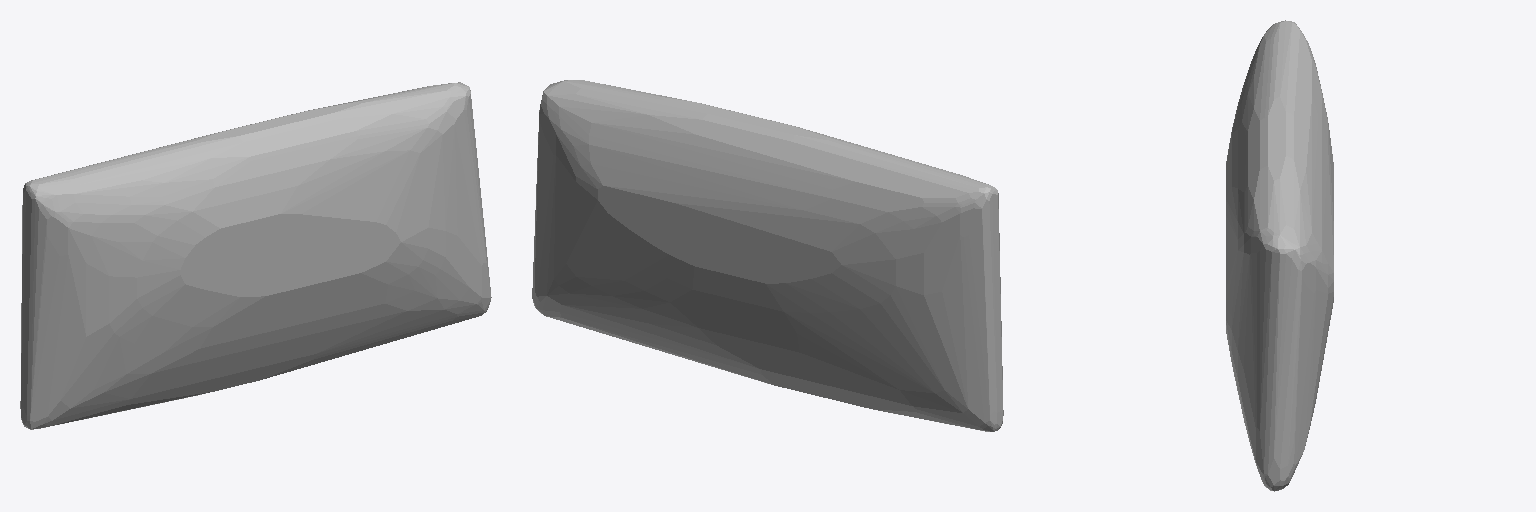
The robot description file, URDF, robot "root":
<?xml version="1.0"?>
<robot name="root">
  <link name="base_link">
    <visual>
      <origin xyz="0 0 0" rpy="0 0 0" />
      <geometry>
        <mesh filename="../meshes/unidex_core_pillow-757be11305637a815b68a464a9cbfadf_008.obj" scale="1.0000E+00 1.0000E+00 1.0000E+00" />
      </geometry>
      <material name="">
        <color rgba="7.50E-01 7.50E-01 7.50E-01 1" />
      </material>
    </visual>
    <collision>
      <origin xyz="0 0 0" rpy="0 0 0" />
      <geometry>
        <mesh filename="../meshes/unidex_core_pillow-757be11305637a815b68a464a9cbfadf_008.obj" scale="1.0000E+00 1.0000E+00 1.0000E+00" />
      </geometry>
    </collision>
  </link>
</robot>

--- Facts derived from the render (not from the file) ---
Views: 3 orthographic renders of the robot side by side, from view 1: azimuth 30°, elevation 25°; view 2: azimuth 150°, elevation 25°; view 3: azimuth 270°, elevation 25°.
Robot: root — 1 links, 0 joints (none); root link base_link; default pose: every joint at zero.
Visible links, largest first — view 1: base_link; view 2: base_link; view 3: base_link.
Link boxes in pixels (x1=…): base_link: x1=20, y1=82, x2=491, y2=429; base_link: x1=532, y1=80, x2=1003, y2=431; base_link: x1=1226, y1=20, x2=1333, y2=491.
Size in the robot's own frame: 0.142 by 0.0278 by 0.0741 metres.
1 mesh visuals loaded from 1 distinct referenced files (1 OBJ).
